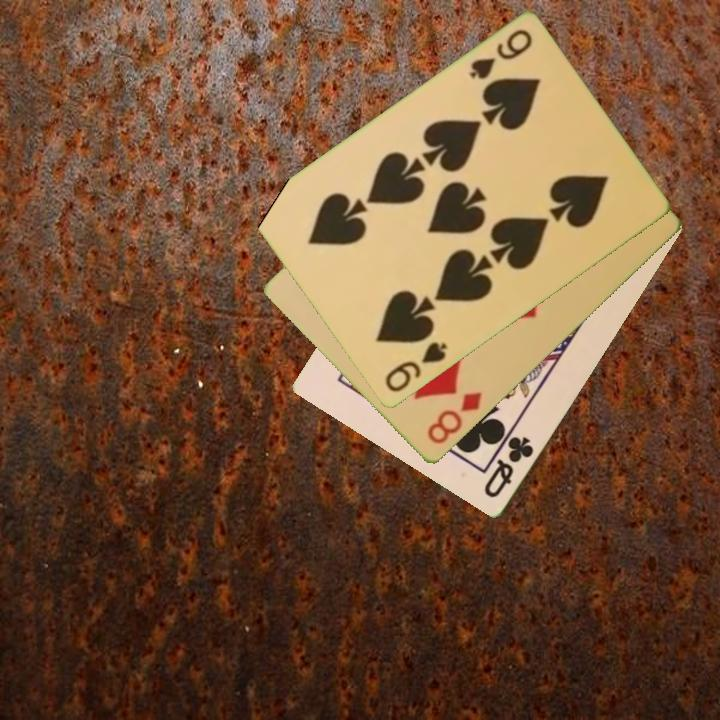8d: (423, 388, 485, 448)
9s: (381, 338, 450, 396), (466, 26, 536, 83)
Qc: (480, 433, 537, 502)
